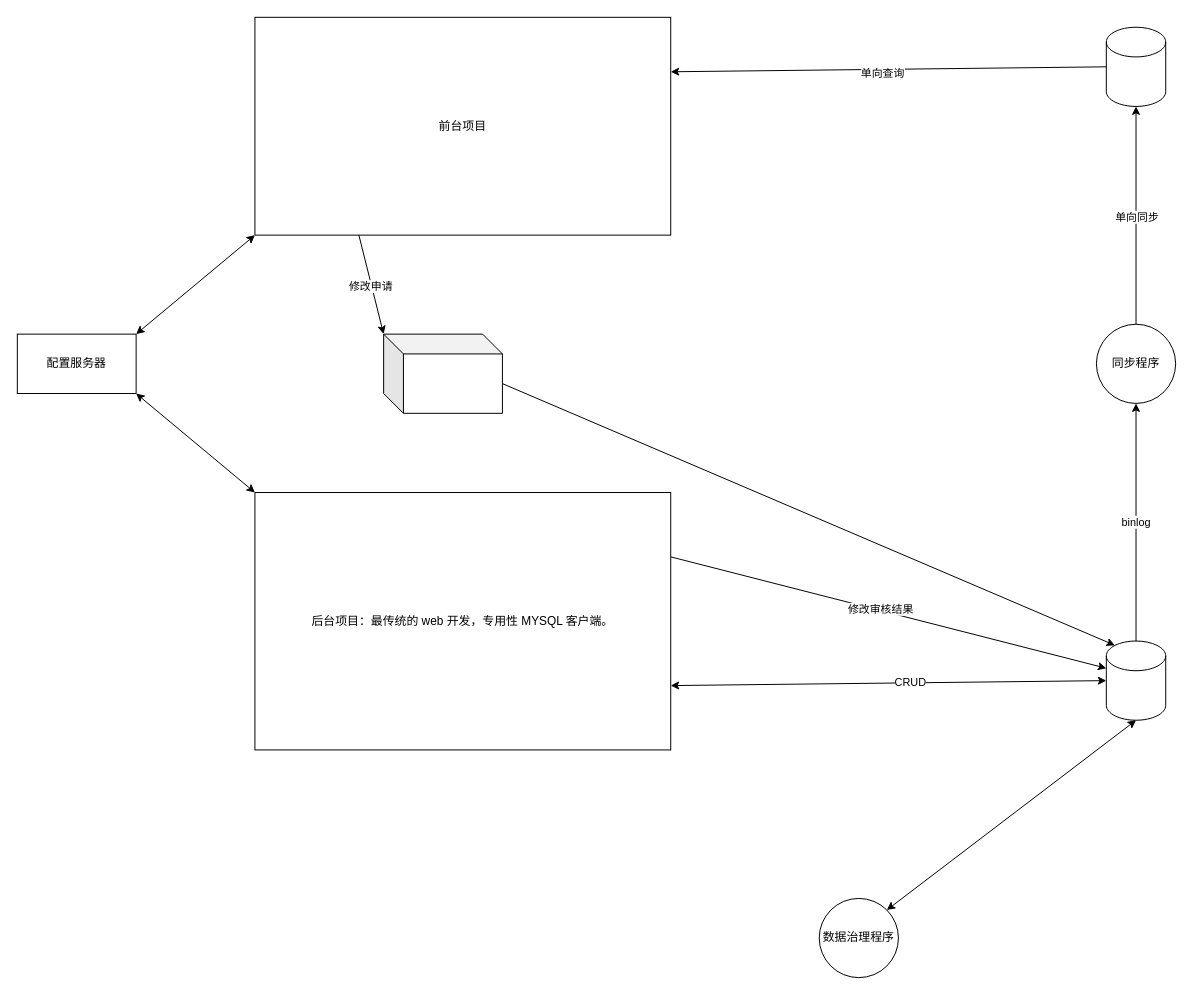
This 1193x995 diagram has some shape labels left out. Here are the shapes that lost their labels. From the top down, the centre of each, then its label:
(1135,66): 文档 数据库
(442,373): 任务队列
(1135,680): MYSQL
